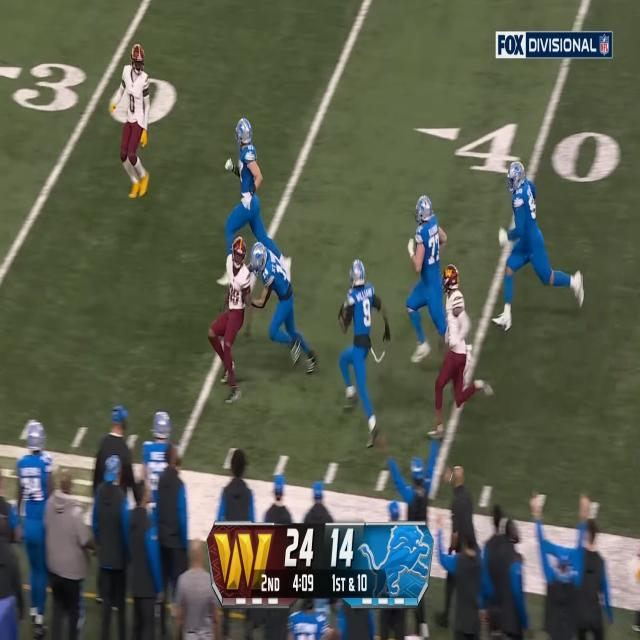Ball: (339, 300, 348, 324)
